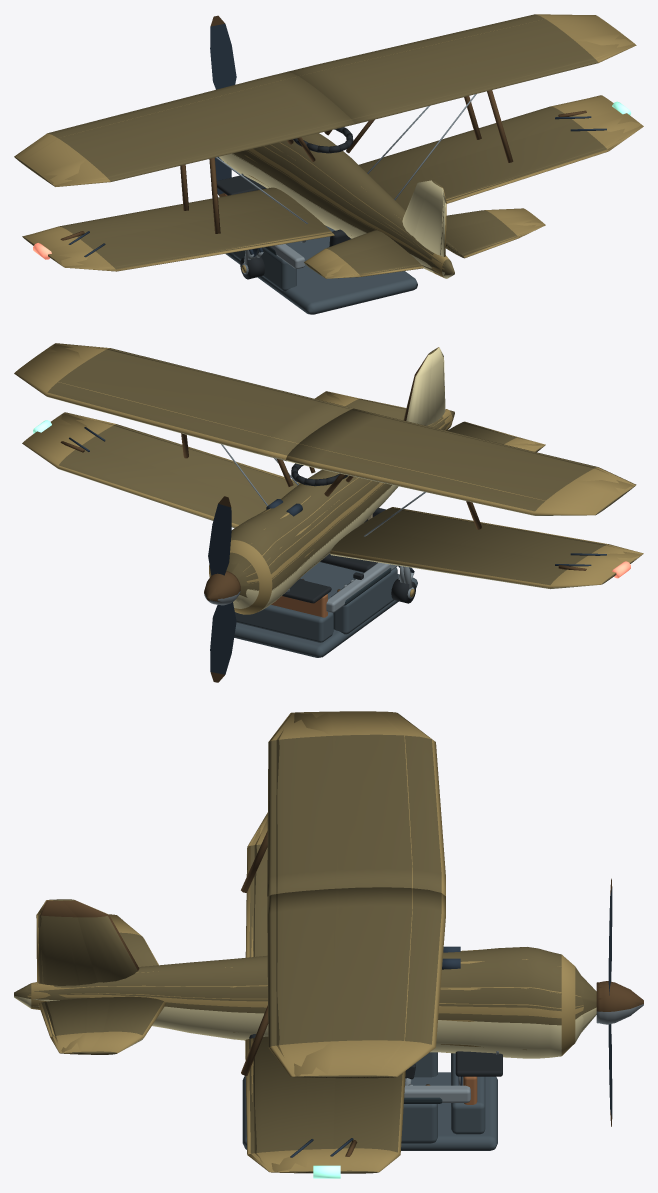
File: camel.glb
The picture shows the model from 3 angles, top to bottom: view 1: azimuth 30°, elevation 25°; view 2: azimuth 150°, elevation 25°; view 3: azimuth 270°, elevation 25°; orthographic projection. The views are drawn at different scales.
Parts seen in each view (by area): view 1: Airframe shell.001 mesh, Airframe shell mesh, Airframe shell.002 mesh, Cockpit shell mesh, Prop_0 mesh, Gear_0 mesh; view 2: Airframe shell mesh, Airframe shell.001 mesh, Cockpit shell mesh, Airframe shell.002 mesh, Prop_0 mesh, Spinner, Gear_0 mesh; view 3: Airframe shell mesh, Airframe shell.001 mesh, Cockpit shell mesh, Airframe shell.002 mesh, Spinner, Prop_0 mesh.
Boxes of the visible parts, x1,y1,x2,y2 form: Airframe shell.001 mesh: [14, 15, 641, 277]; Airframe shell mesh: [17, 14, 635, 278]; Airframe shell.002 mesh: [21, 19, 641, 278]; Cockpit shell mesh: [216, 173, 417, 314]; Prop_0 mesh: [210, 15, 236, 196]; Gear_0 mesh: [240, 247, 264, 279]; Airframe shell mesh: [15, 343, 635, 614]; Airframe shell.001 mesh: [14, 343, 641, 614]; Cockpit shell mesh: [234, 507, 417, 657]; Airframe shell.002 mesh: [22, 344, 641, 603]; Prop_0 mesh: [208, 496, 236, 682]; Spinner: [204, 571, 240, 605]; Gear_0 mesh: [391, 565, 415, 603]; Airframe shell mesh: [14, 711, 583, 1178]; Airframe shell.001 mesh: [14, 711, 583, 1173]; Cockpit shell mesh: [242, 1034, 502, 1150]; Airframe shell.002 mesh: [14, 711, 596, 1173]; Spinner: [596, 981, 643, 1024]; Prop_0 mesh: [608, 878, 612, 1126].
Bounding box in the file's own units: 8.63 × 2.64 × 6.24.
